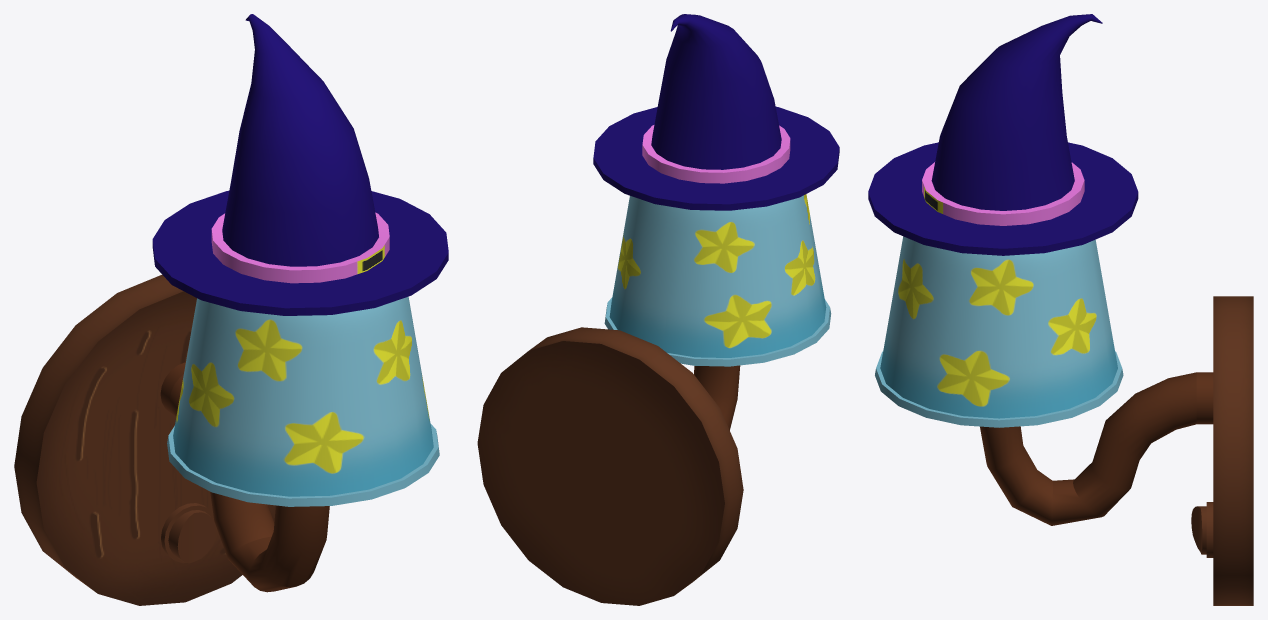
Rendered from Muurlampje.fbx.
3 views of the same model, side by side, from view 1: azimuth 30°, elevation 25°; view 2: azimuth 150°, elevation 25°; view 3: azimuth 270°, elevation 25° (orthographic). The views are drawn at different scales.
Visible parts, largest first — view 1: pCylinder13; view 2: pCylinder13; view 3: pCylinder13.
Boxes of the visible parts, x1,y1,x2,y2 form: pCylinder13: (14,14,448,605); pCylinder13: (477,14,839,605); pCylinder13: (868,14,1253,605).
Bounding box in the file's own units: 8.63 × 17.63 × 10.66.
1 material, 1 textured.
